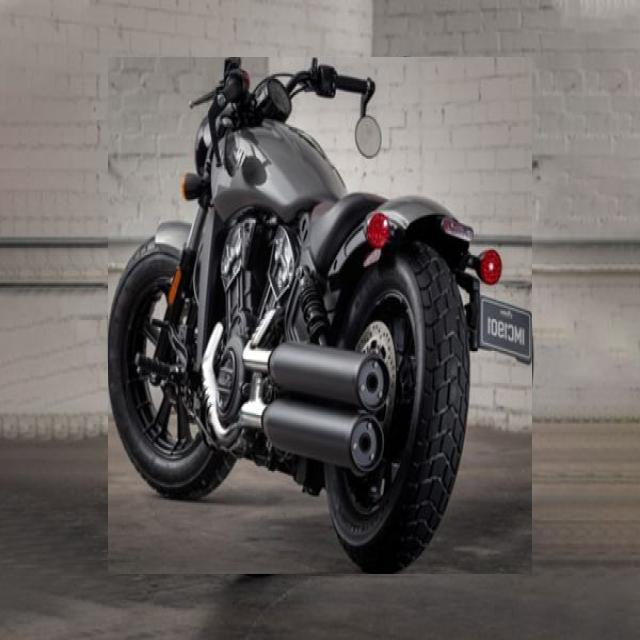motorcycle: (108, 58, 532, 574)
